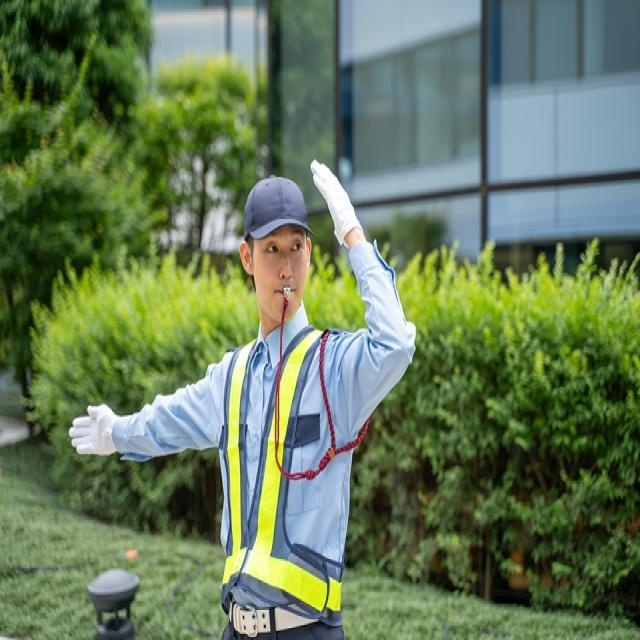Con_Chaleco: (218, 331, 346, 631)
Sin_Casco_Mascarrilla: (244, 171, 312, 312)
